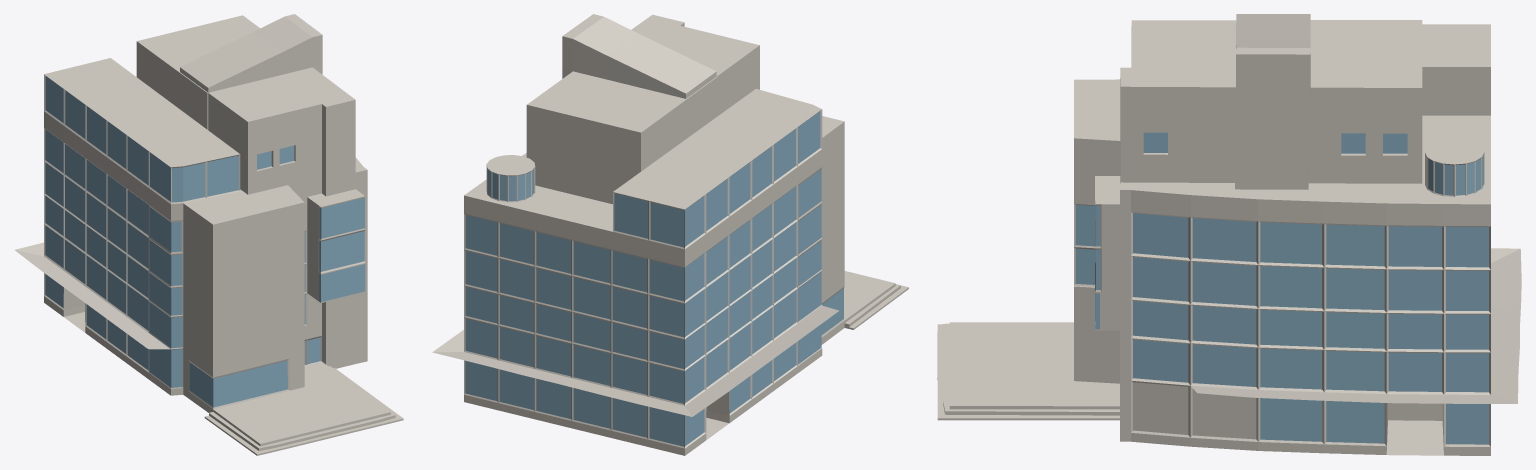
File: schunkv5.glb
The picture shows the model from 3 angles, left to right: view 1: azimuth 30°, elevation 25°; view 2: azimuth 150°, elevation 25°; view 3: azimuth 270°, elevation 25°; orthographic projection. The views are drawn at different scales.
Parts seen in each view (by area): view 1: Areas:building.001; view 2: Areas:building.001; view 3: Areas:building.001.
Boxes of the visible parts, x1=… form: Areas:building.001: x1=15, y1=14, x2=403, y2=455; Areas:building.001: x1=432, y1=14, x2=908, y2=455; Areas:building.001: x1=937, y1=14, x2=1521, y2=455.
Bounding box in the file's own units: 30.23 × 34.89 × 47.76.
